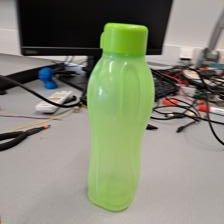bottle: (83, 21, 156, 212)
